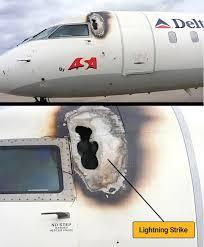Fuselage_damage: (65, 112, 115, 180), (81, 13, 115, 40)
